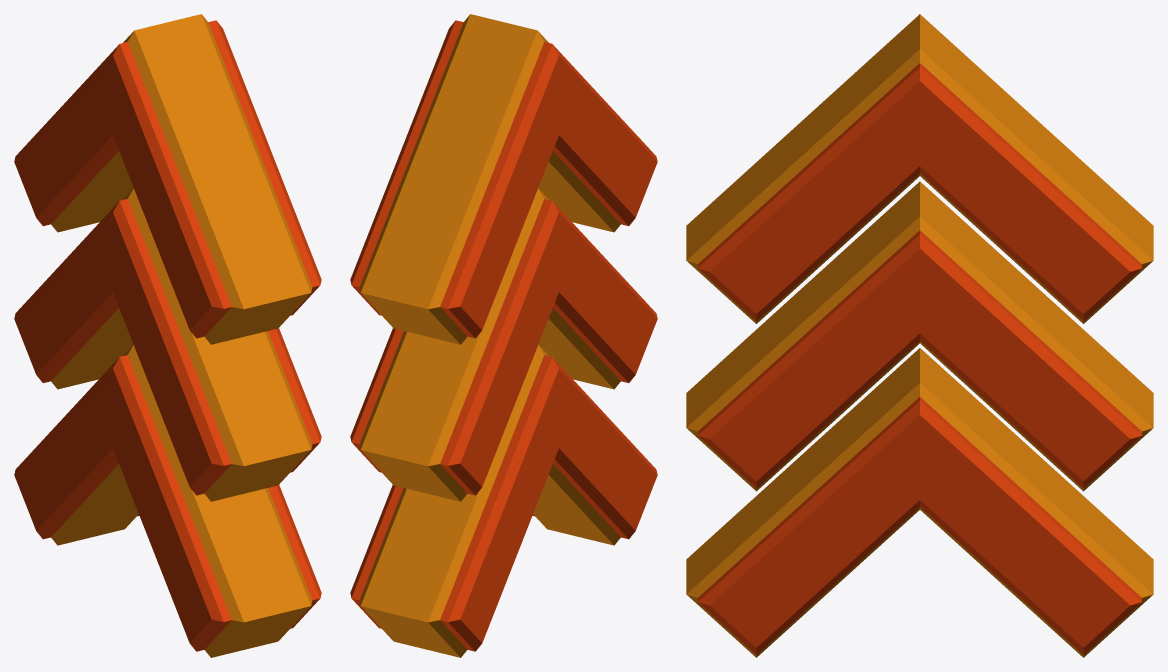
File: SpeedBooster.fbx
3 views of the same model, side by side, from view 1: azimuth 30°, elevation 25°; view 2: azimuth 150°, elevation 25°; view 3: azimuth 270°, elevation 25° (orthographic). The views are drawn at different scales.
Parts seen in each view (by area): view 1: Cube; view 2: Cube; view 3: Cube.
Boxes of the visible parts, x1,y1,x2,y2 form: Cube: (14,14,321,657); Cube: (350,14,657,657); Cube: (686,14,1153,657).
Bounding box in the file's own units: 41 × 203 × 141.
